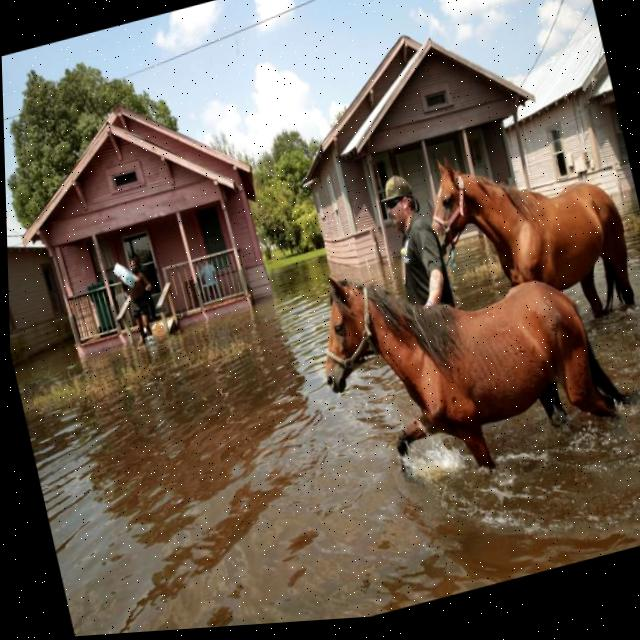civilian: (362, 157, 461, 322), (100, 246, 172, 359)
horse: (307, 212, 640, 515), (416, 113, 640, 357)
